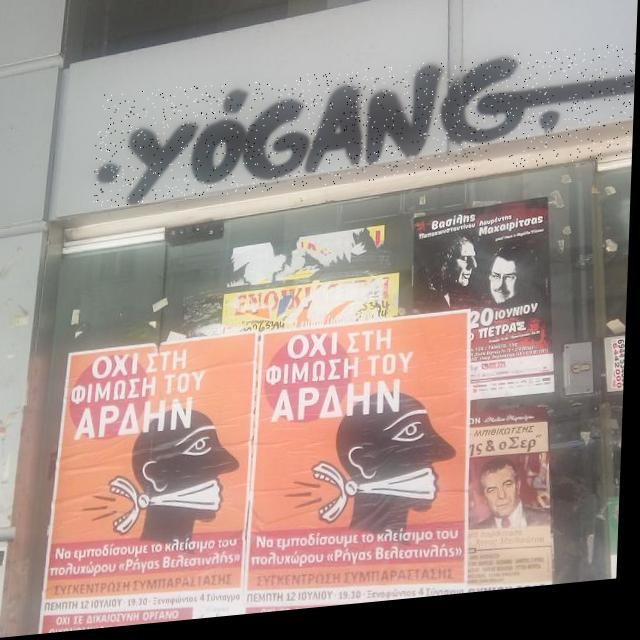-: (95, 56, 637, 210)
